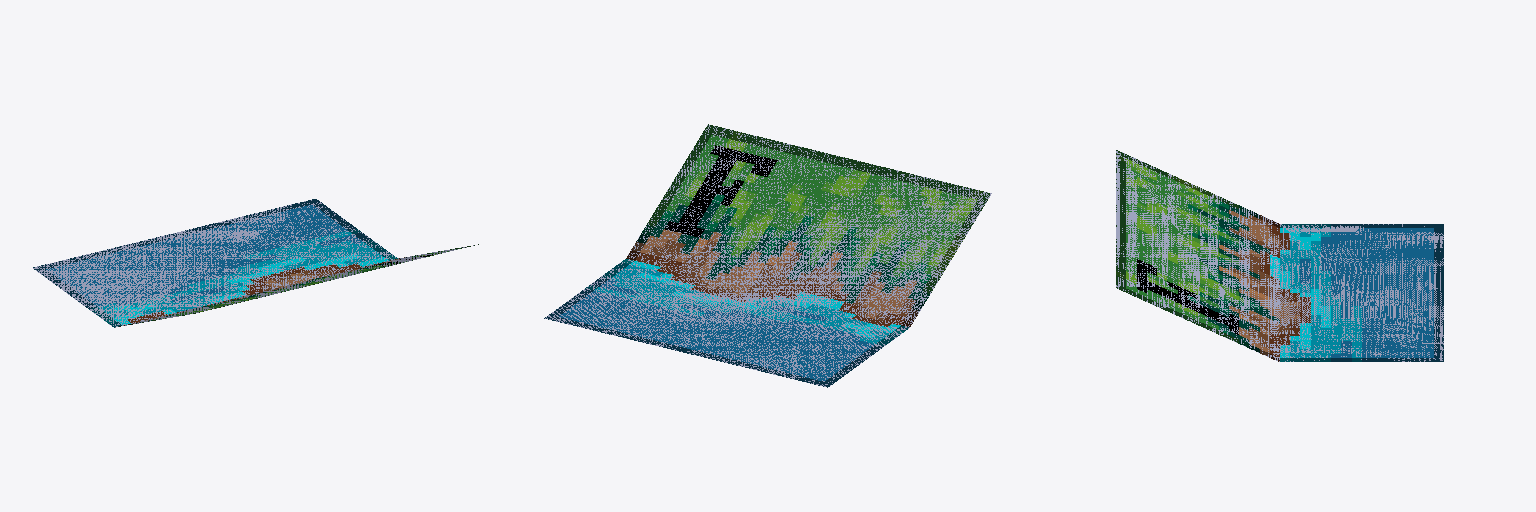
3 views of the same model, side by side, from view 1: azimuth 30°, elevation 25°; view 2: azimuth 150°, elevation 25°; view 3: azimuth 270°, elevation 25° (orthographic).
Visible parts, largest first — view 1: Mesh1 Model; view 2: Mesh1 Model; view 3: Mesh1 Model.
Part boxes in pixels (x1,y1,x2,y2): Mesh1 Model: (33,199,478,327); Mesh1 Model: (544,124,991,387); Mesh1 Model: (1116,150,1443,361).
Size of the model in its own units: 32 by 8 by 32.
2 materials, 1 textured.